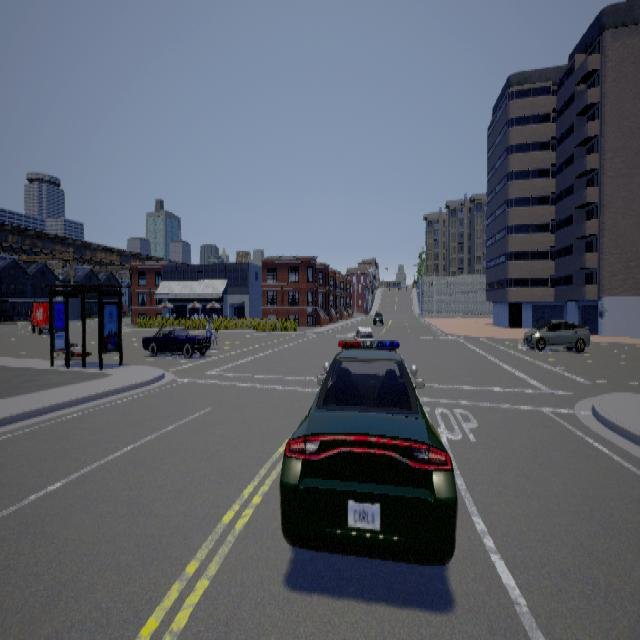bike: (203, 315, 221, 345)
vehicle: (278, 332, 457, 564), (141, 325, 217, 357), (522, 318, 589, 352), (29, 302, 49, 334)
